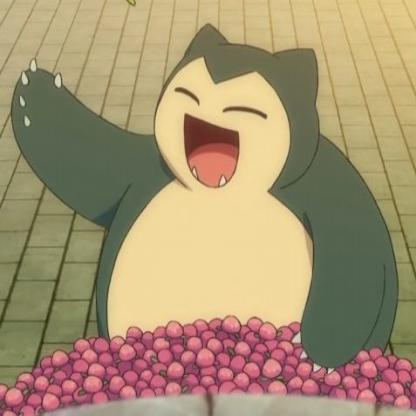Snorlax: (2, 13, 416, 348)
